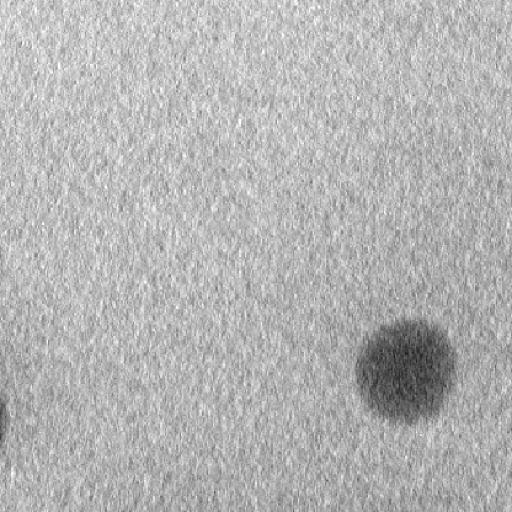Nanoparticles: (353, 312, 459, 431), (0, 396, 12, 460)
